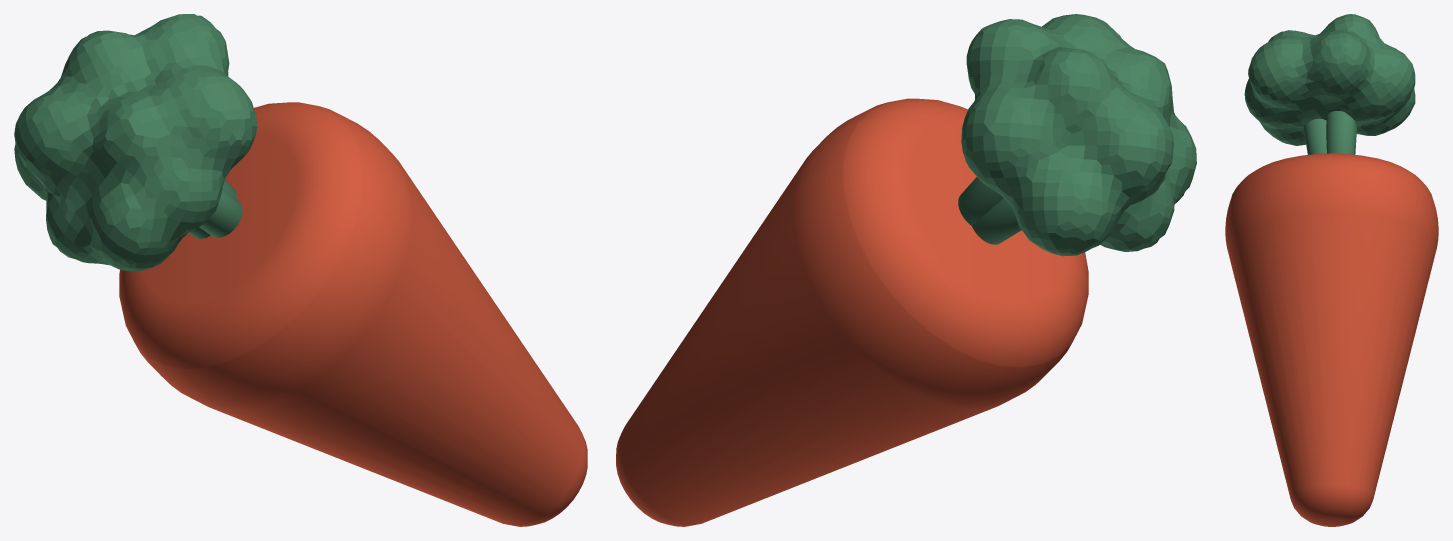
The model's file is Carrot.fbx.
The picture shows the model from 3 angles, left to right: view 1: azimuth 30°, elevation 25°; view 2: azimuth 150°, elevation 25°; view 3: azimuth 270°, elevation 25°; orthographic projection. The views are drawn at different scales.
Parts seen in each view (by area): view 1: にんじん, はっぱ, くき; view 2: にんじん, はっぱ, くき; view 3: にんじん, はっぱ, くき.
Boxes of the visible parts, x1,y1,x2,y2 form: にんじん: (119,102,587,526); はっぱ: (14,14,256,271); くき: (188,179,242,238); にんじん: (616,98,1088,526); はっぱ: (961,14,1196,256); くき: (958,177,1021,244); にんじん: (1225,153,1438,526); はっぱ: (1244,14,1415,145); くき: (1303,111,1356,154).
Bounding box in the file's own units: 233 × 235 × 119.
